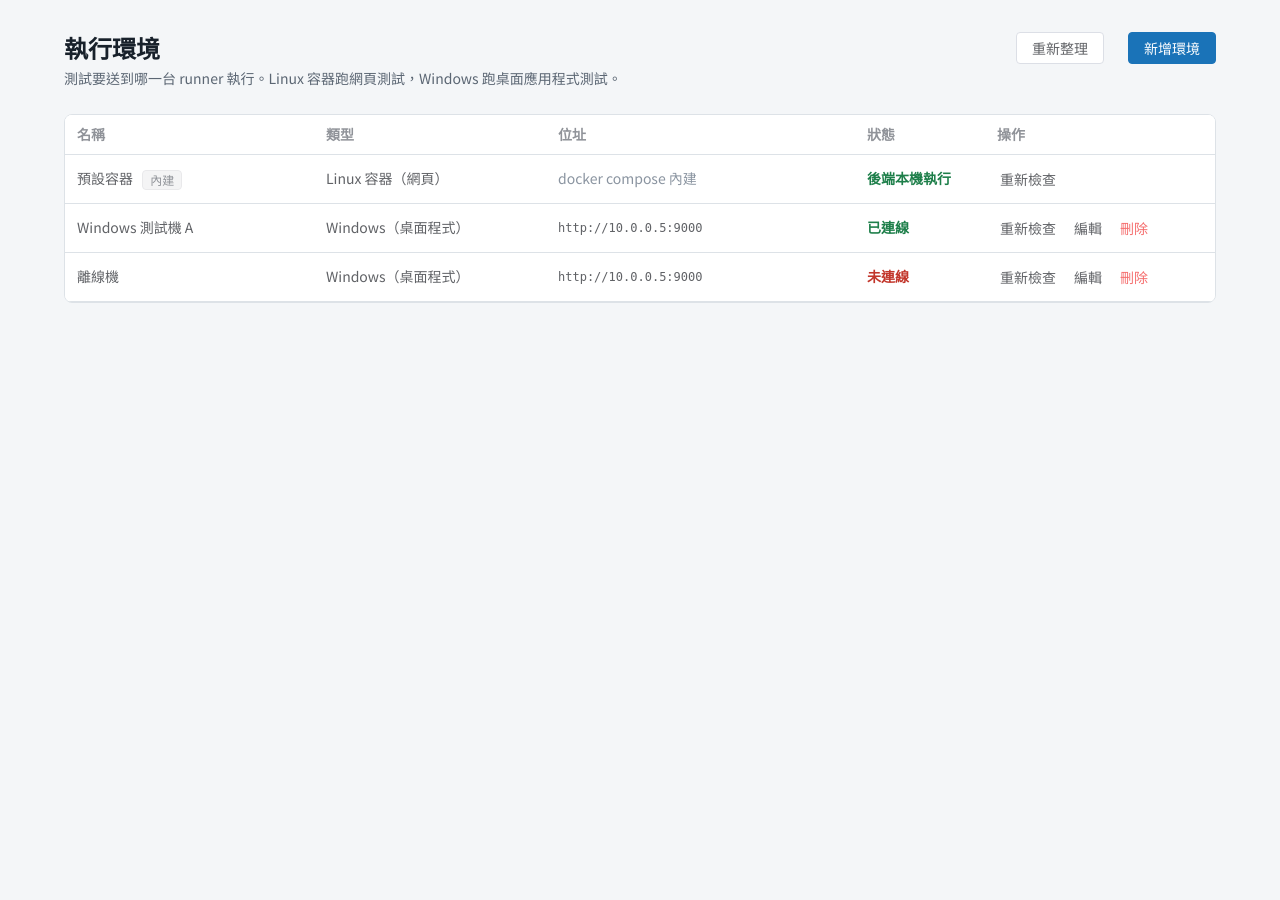
Test: RunnerEnvironmentsPage › requires a token when creating
This screenshot has width=1280, height=900.
Click the button with test id "btn-add". click: (1172, 48)
box: [1128, 32, 1216, 64]
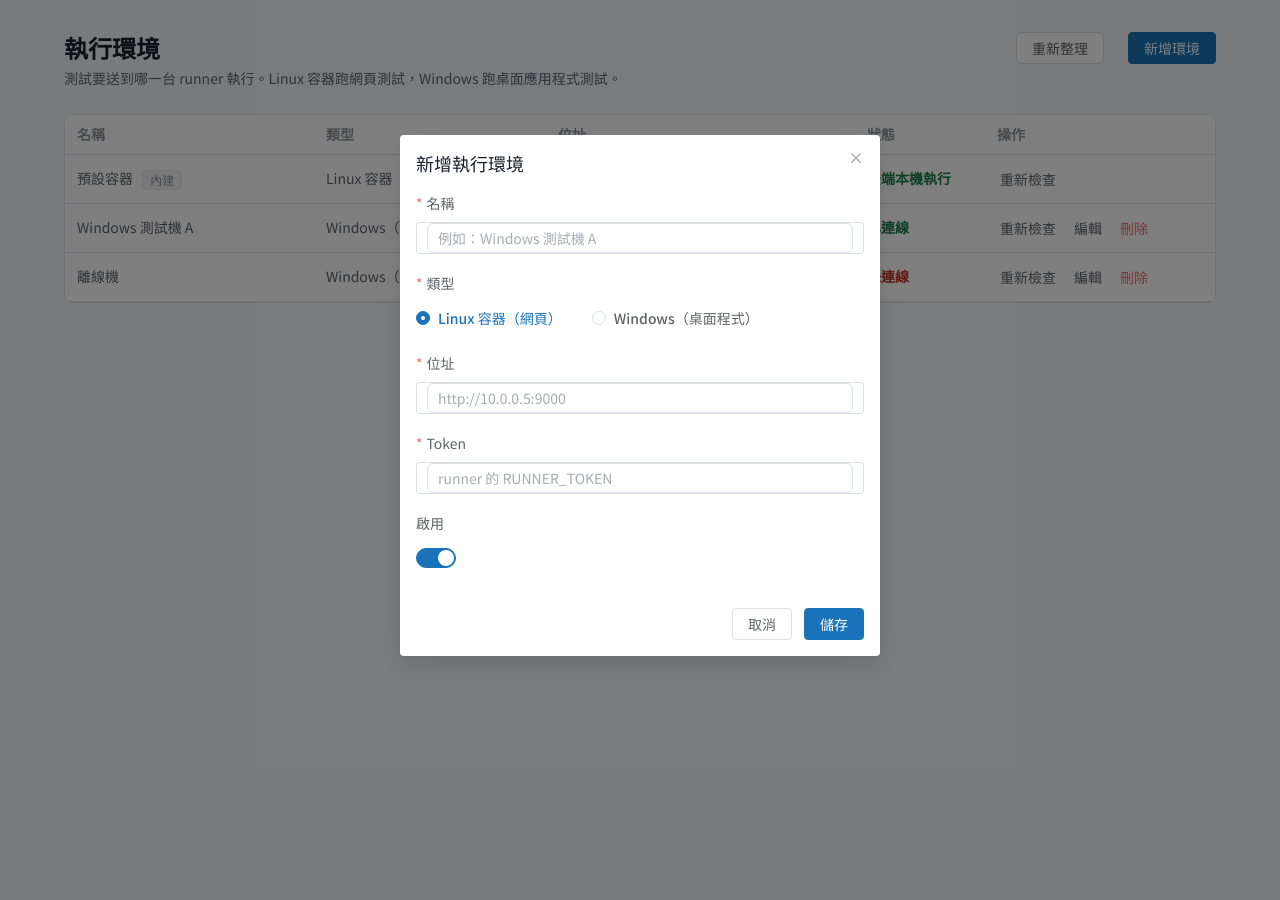
Click the button with test id "btn-save". click: (834, 624)
box: [804, 608, 864, 640]
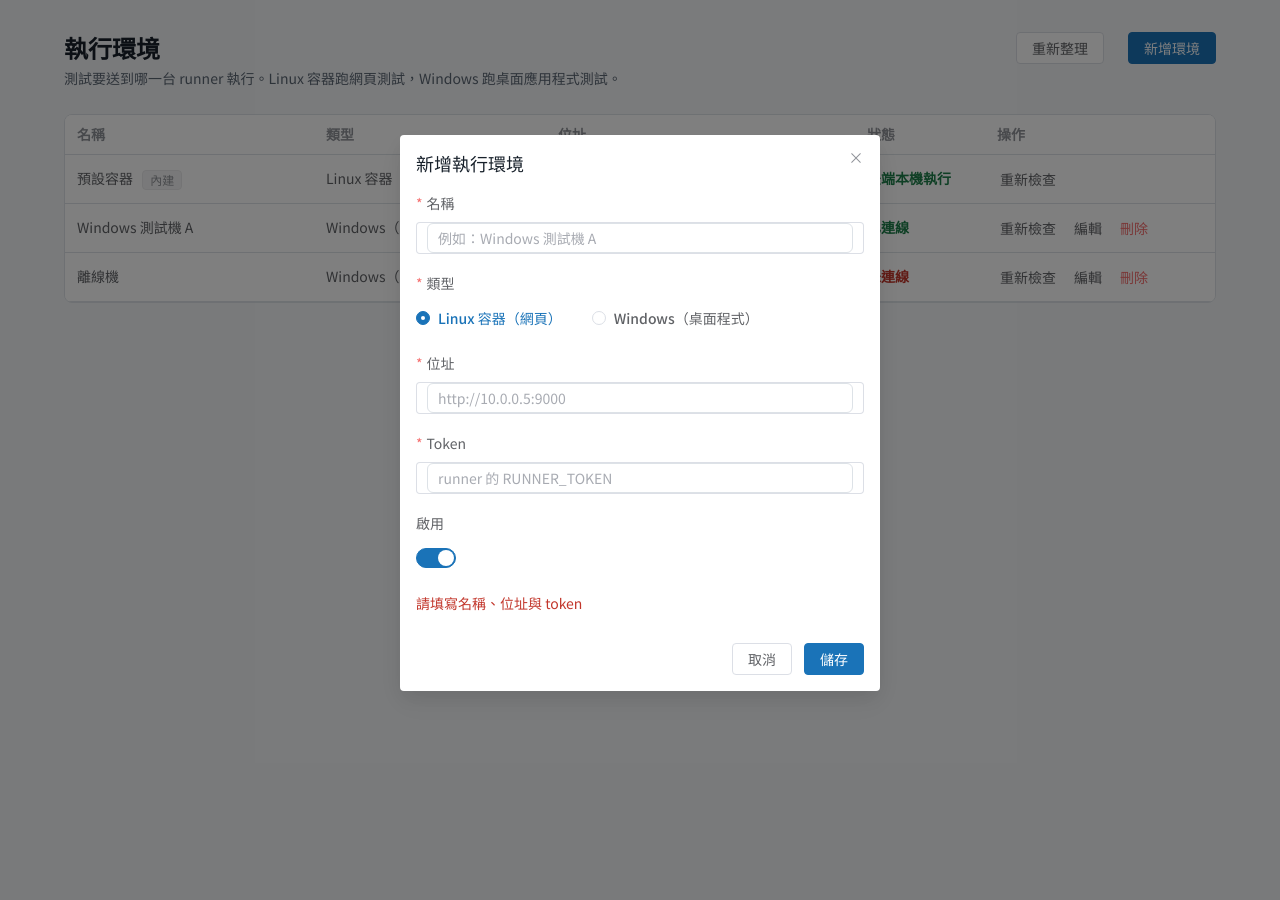
expect the text with test id "form-error" shows "token": met, box [416, 593, 582, 613]
